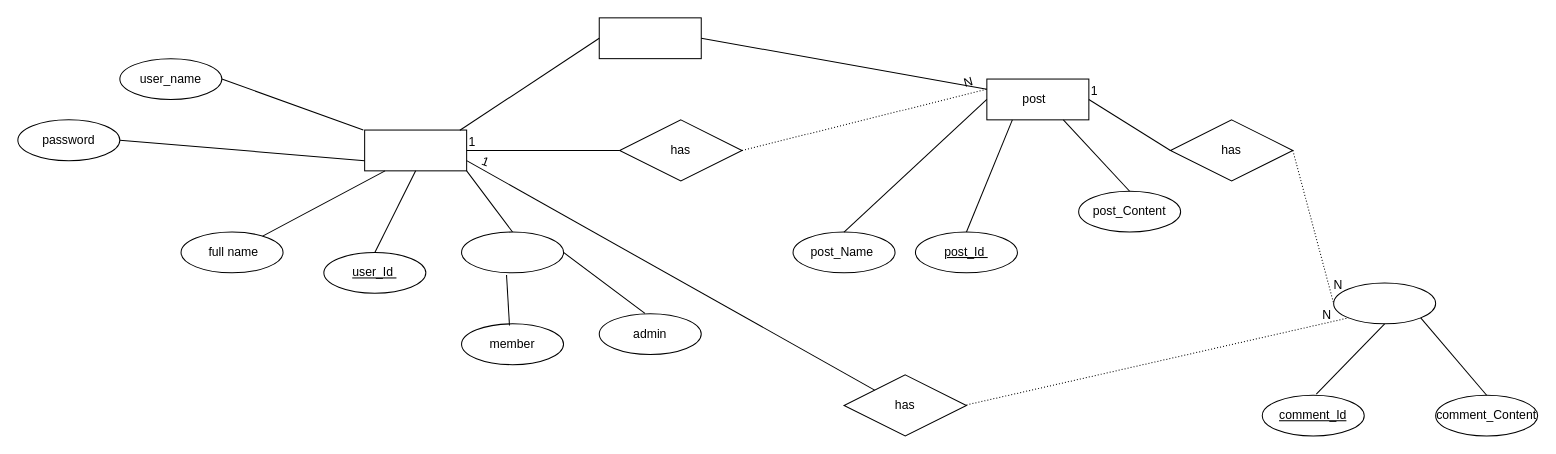
This 1556x454 diagram has some shape labels left out. Here are the shapes that lost their labels. From the top down, the box of each, then its label:
(598, 17, 701, 59): Social media
(364, 129, 467, 171): user
(461, 231, 564, 273): role
(1333, 282, 1436, 324): comment
